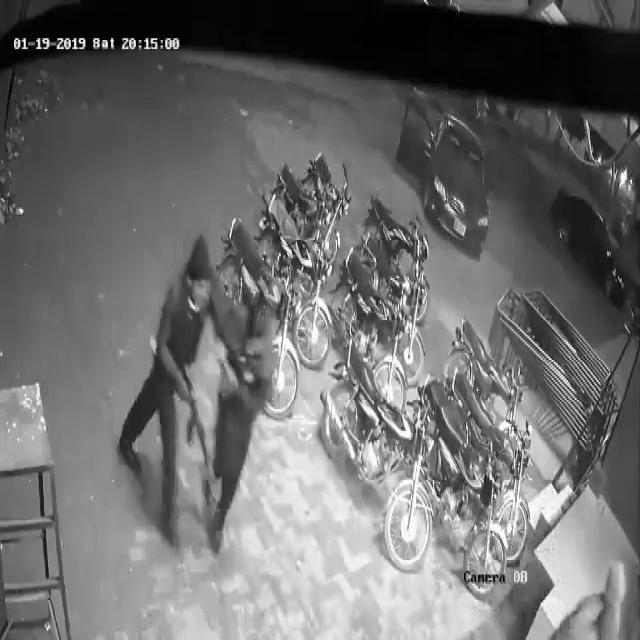Gun: (177, 350, 211, 472)
